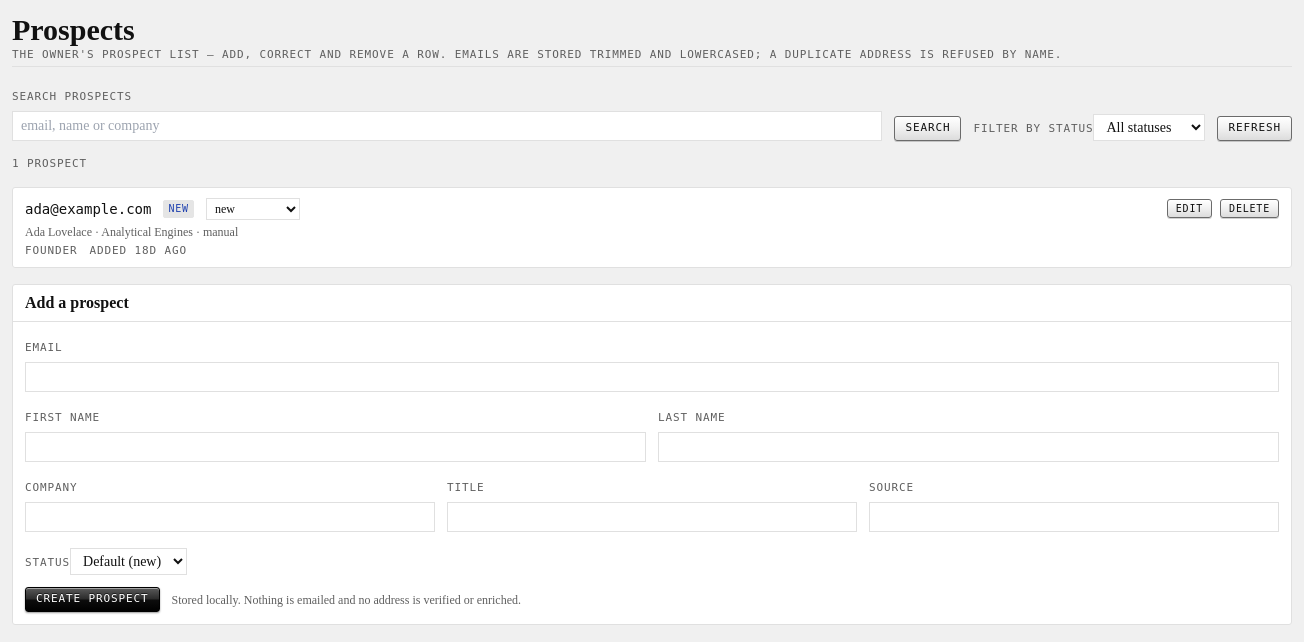
Scenario: ProspectsPage — inline edit and delete › PATCHes the status and paints the SERVER's answer, not the requested word
The width and height of the screenshot is (1304, 642).
Select "contacted" in the dropdown named "Status for ada@example.com" at [253, 208], box [206, 198, 300, 220]
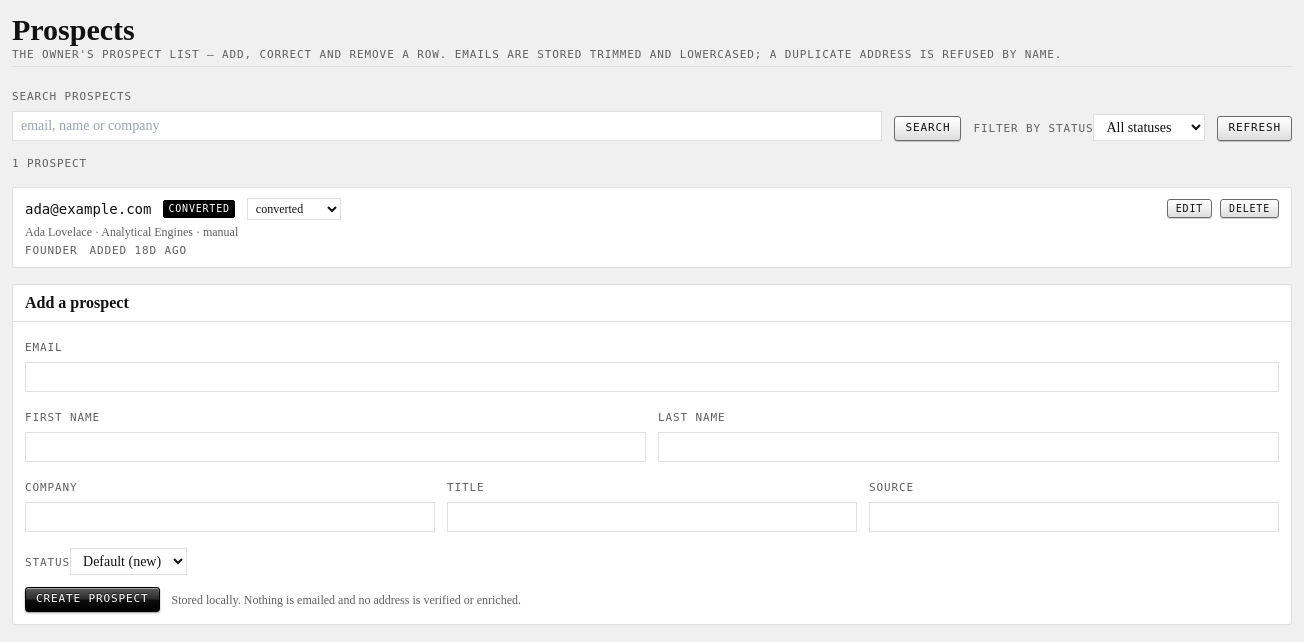
Now the text with test id "prospect-status" reads "converted", box [168, 202, 230, 214]
